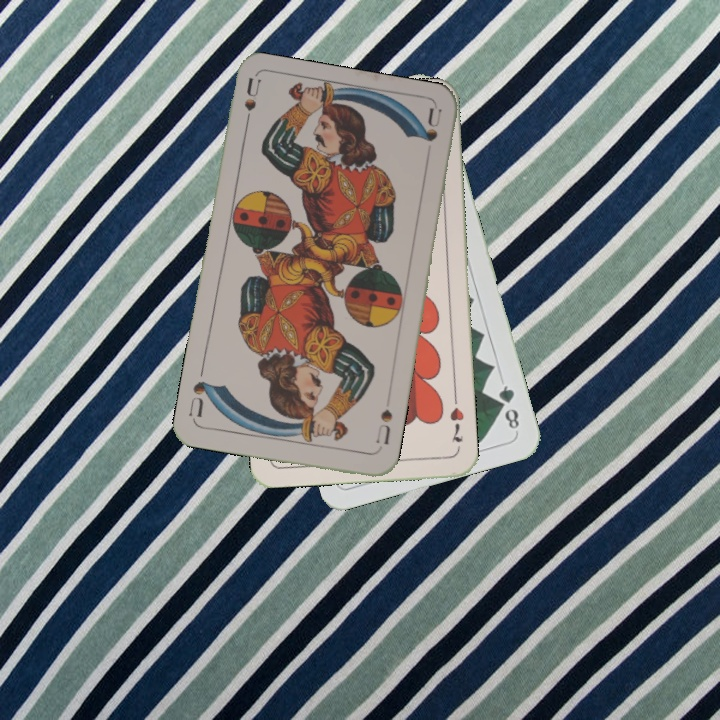G8: (494, 381, 522, 432)
H7: (446, 403, 467, 445)
SU: (240, 76, 263, 135), (372, 405, 396, 453)
